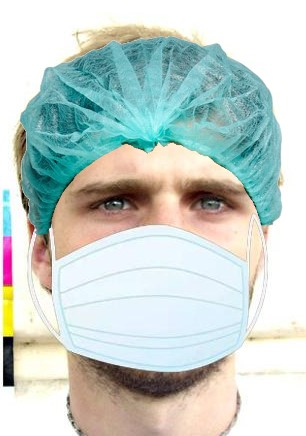with_mask_and_cap: (22, 37, 273, 392)
